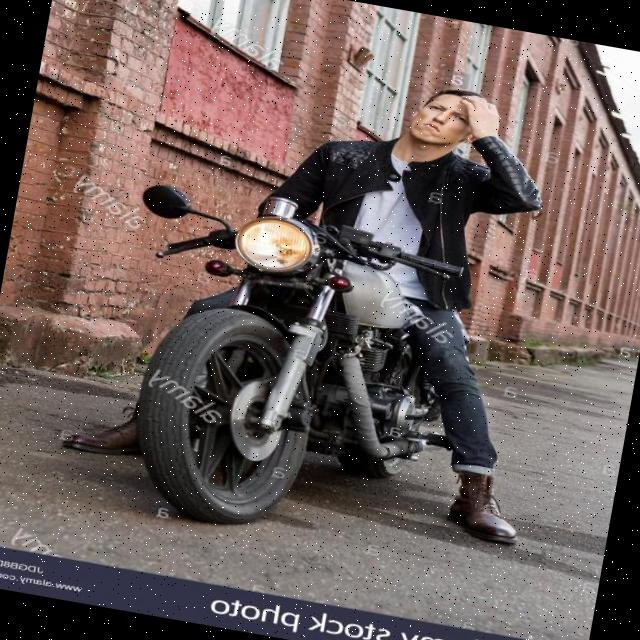No helmet: (391, 65, 500, 178)
